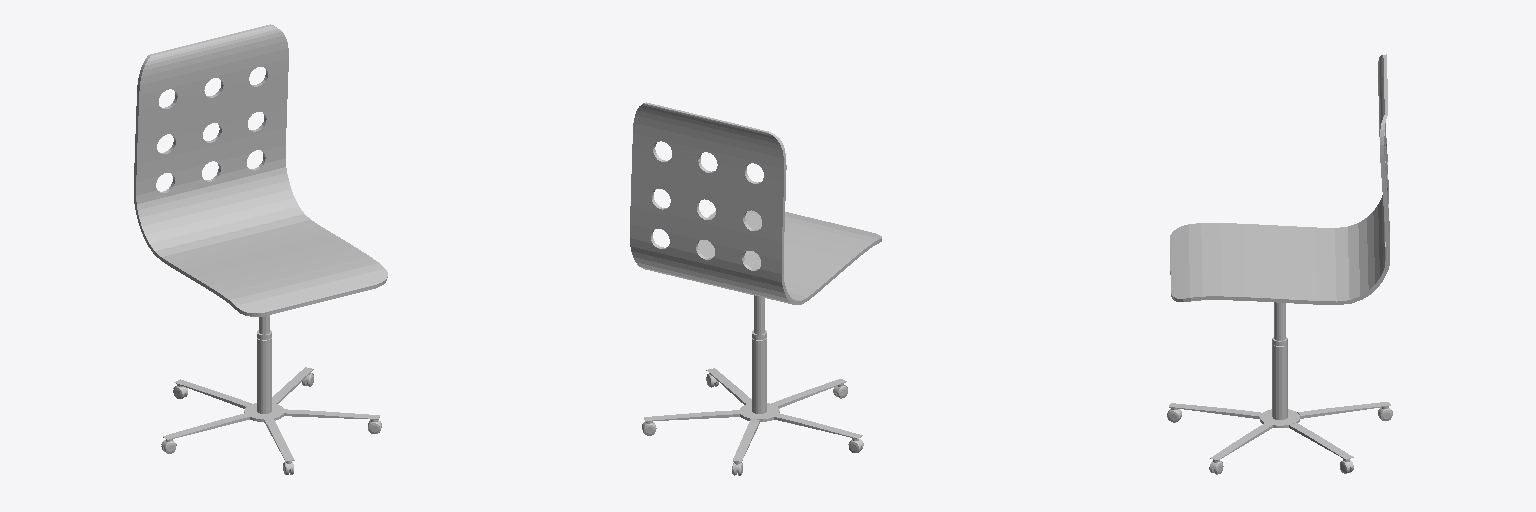
The model's file is chair_with_wheels.obj.
3 renders of one model, left to right at view 1: azimuth 30°, elevation 25°; view 2: azimuth 150°, elevation 25°; view 3: azimuth 270°, elevation 25°, orthographic.
Visible parts, largest first — view 1: Line01; view 2: Line01; view 3: Line01.
Part boxes in pixels (left/top/right/bottom): Line01: left=134, top=24, right=387, bottom=474; Line01: left=630, top=102, right=881, bottom=475; Line01: left=1167, top=54, right=1392, bottom=474.
Bounding box in the file's own units: 61.26 × 110 × 64.13.